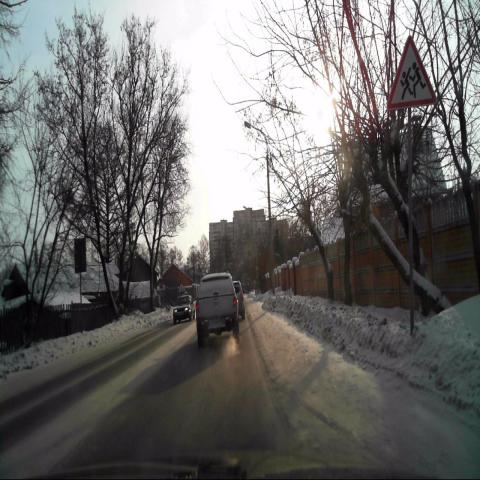1_23: (387, 35, 437, 110)
